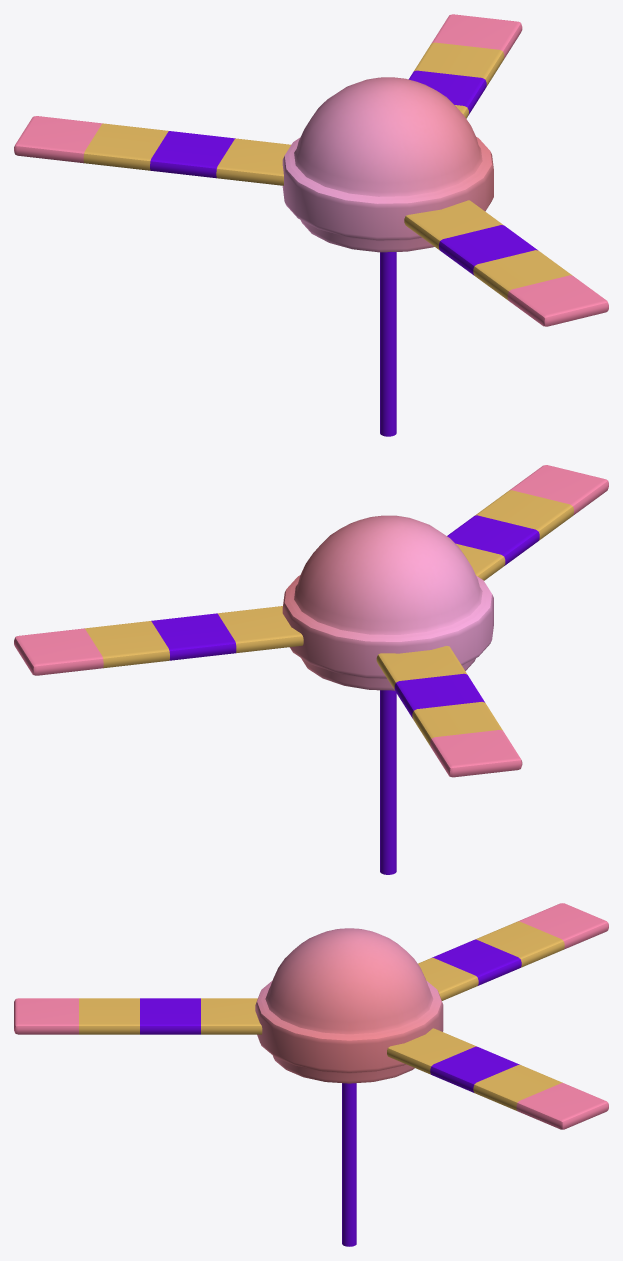
File: Obstacle2.fbx
3 renders of one model, top to bottom at view 1: azimuth 30°, elevation 25°; view 2: azimuth 150°, elevation 25°; view 3: azimuth 270°, elevation 25°, orthographic. The views are drawn at different scales.
Visible parts, largest first — view 1: Candy, Rod; view 2: Candy, Rod; view 3: Candy, Rod.
Boxes of the visible parts, x1,y1,x2,y2 form: Candy: (14,14,608,326); Rod: (380,252,396,436); Candy: (14,465,608,777); Rod: (380,690,396,874); Candy: (14,903,608,1129); Rod: (342,1083,356,1246).
Size of the model in its own units: 618 by 404 by 709.
